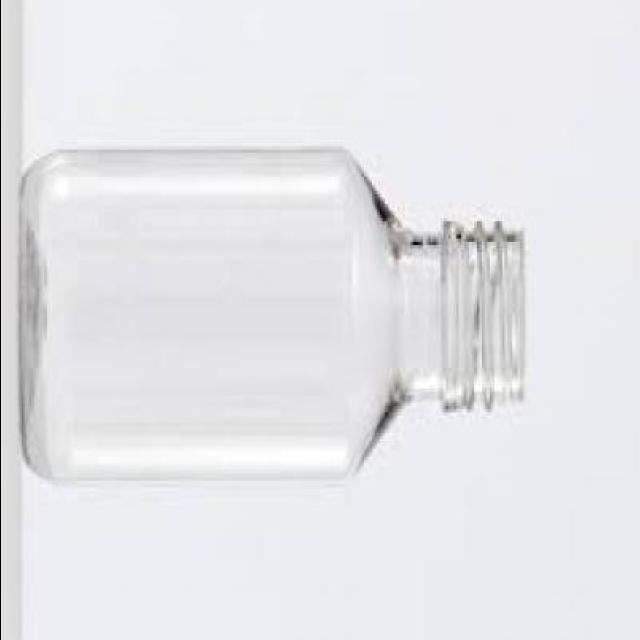kaca: (21, 147, 527, 487)
